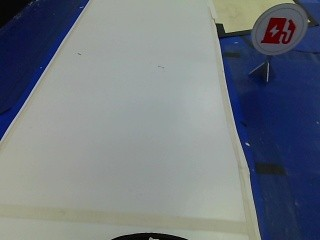battery: (249, 7, 303, 56)
